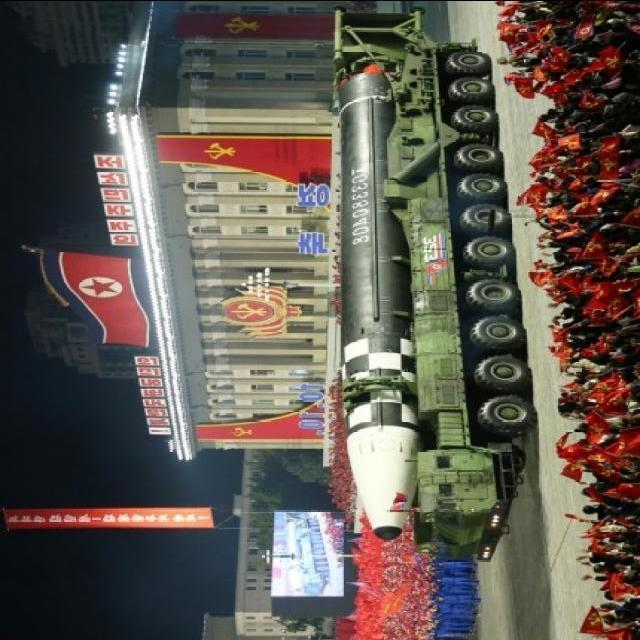Missile: (332, 57, 419, 542)
